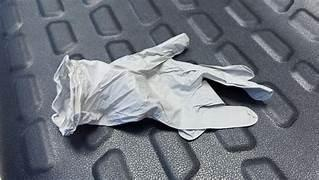Glove: (52, 34, 271, 139)
